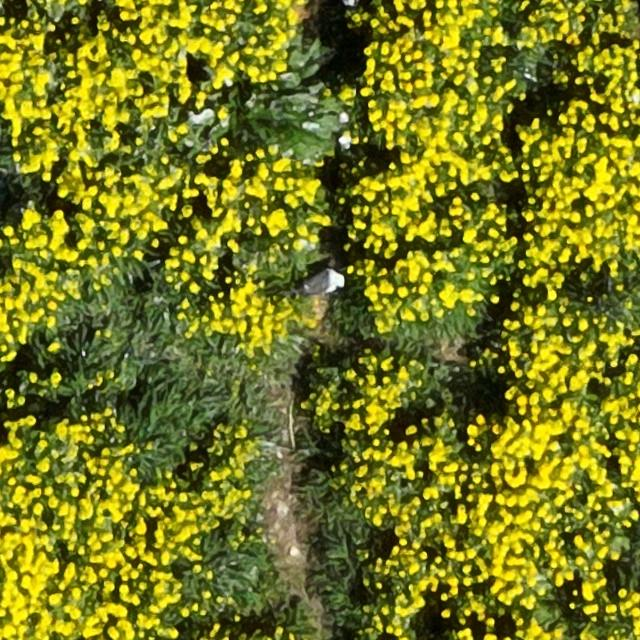umineko: (298, 270, 340, 293)
